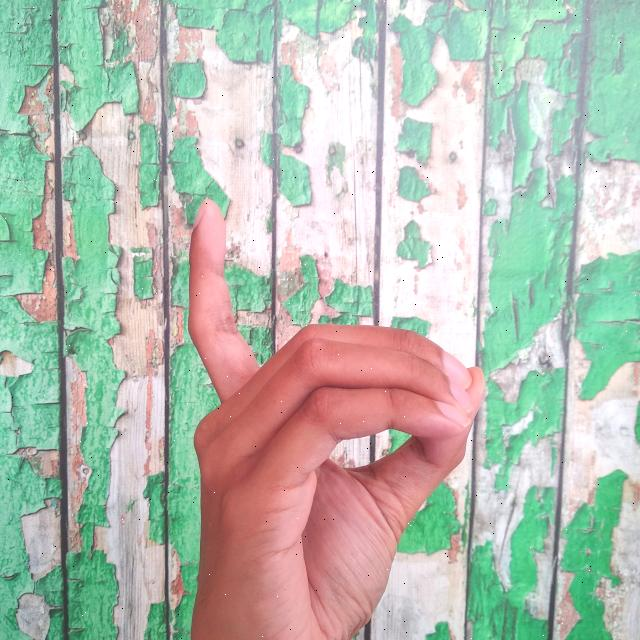D: (188, 193, 493, 640)
